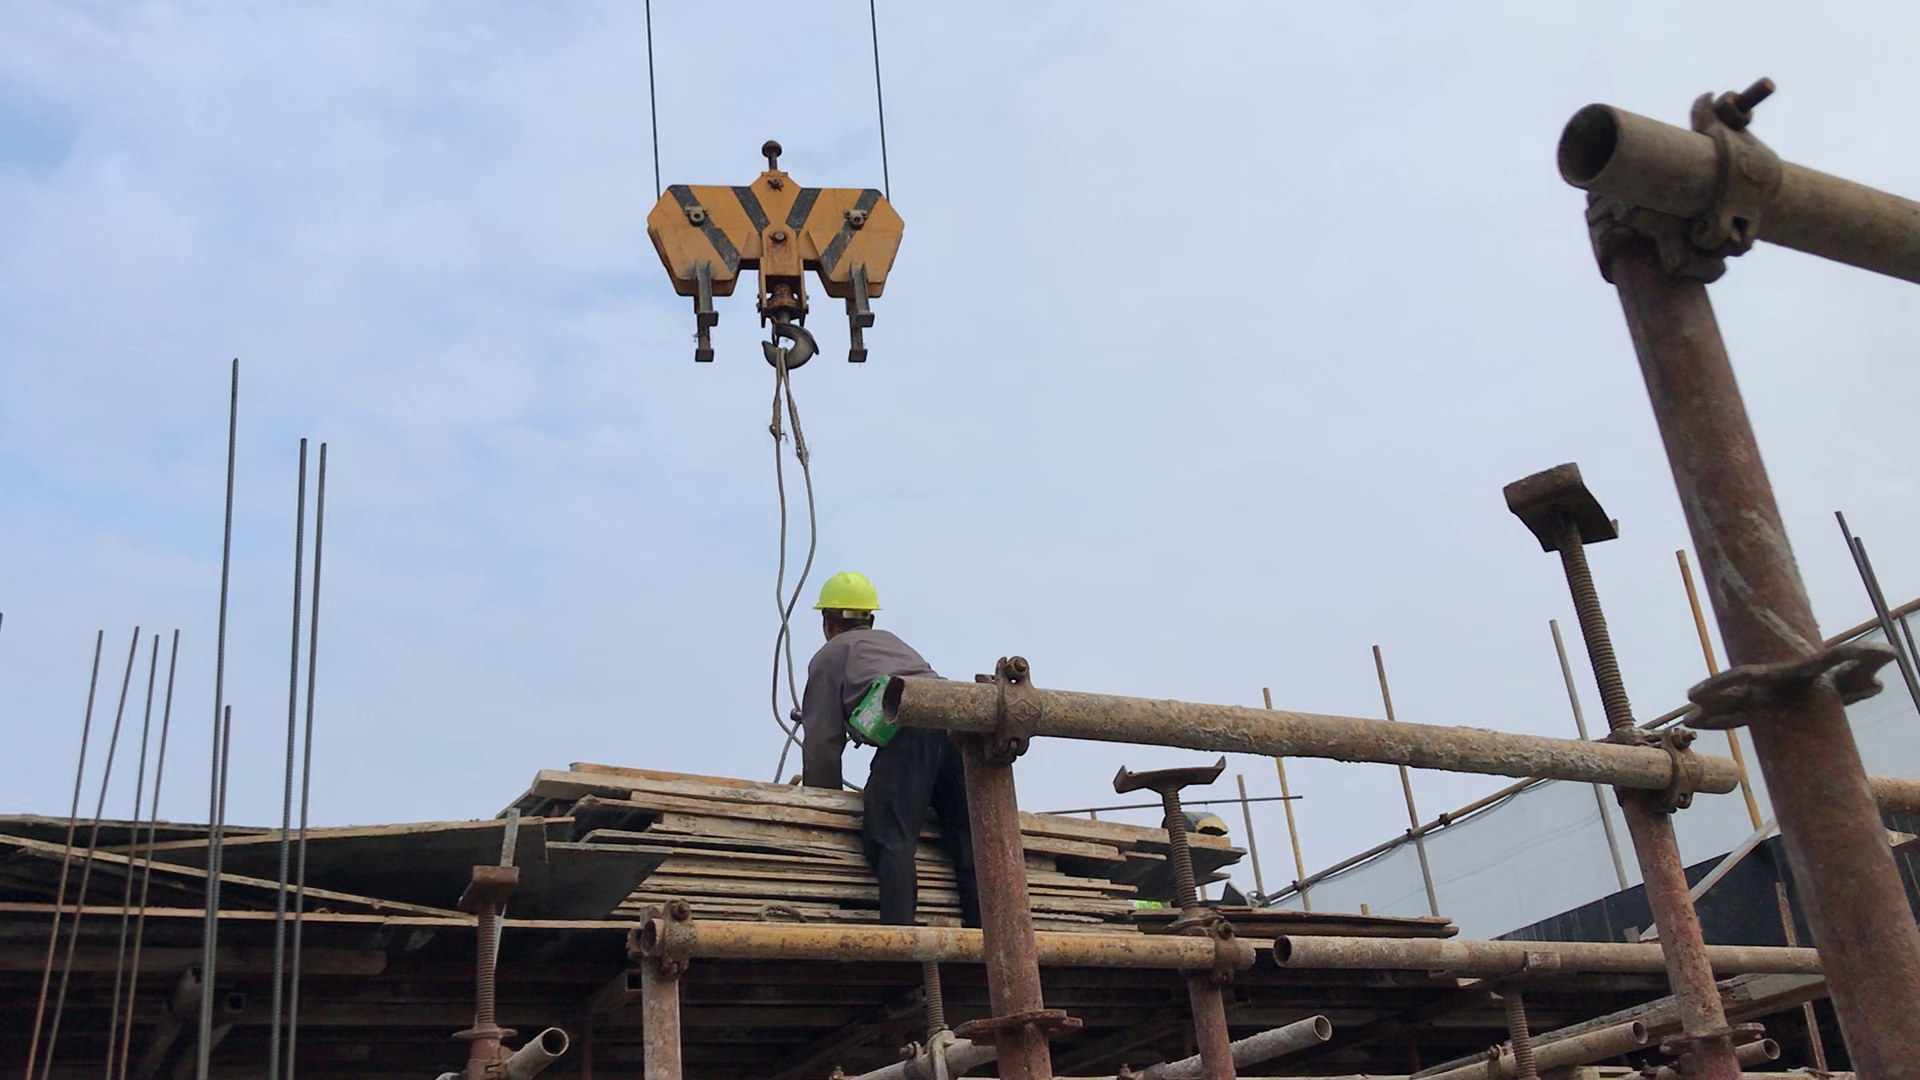board: (504, 734, 1255, 991)
helmet: (818, 567, 882, 622)
hook: (634, 116, 908, 393)
person: (793, 549, 1001, 946)
